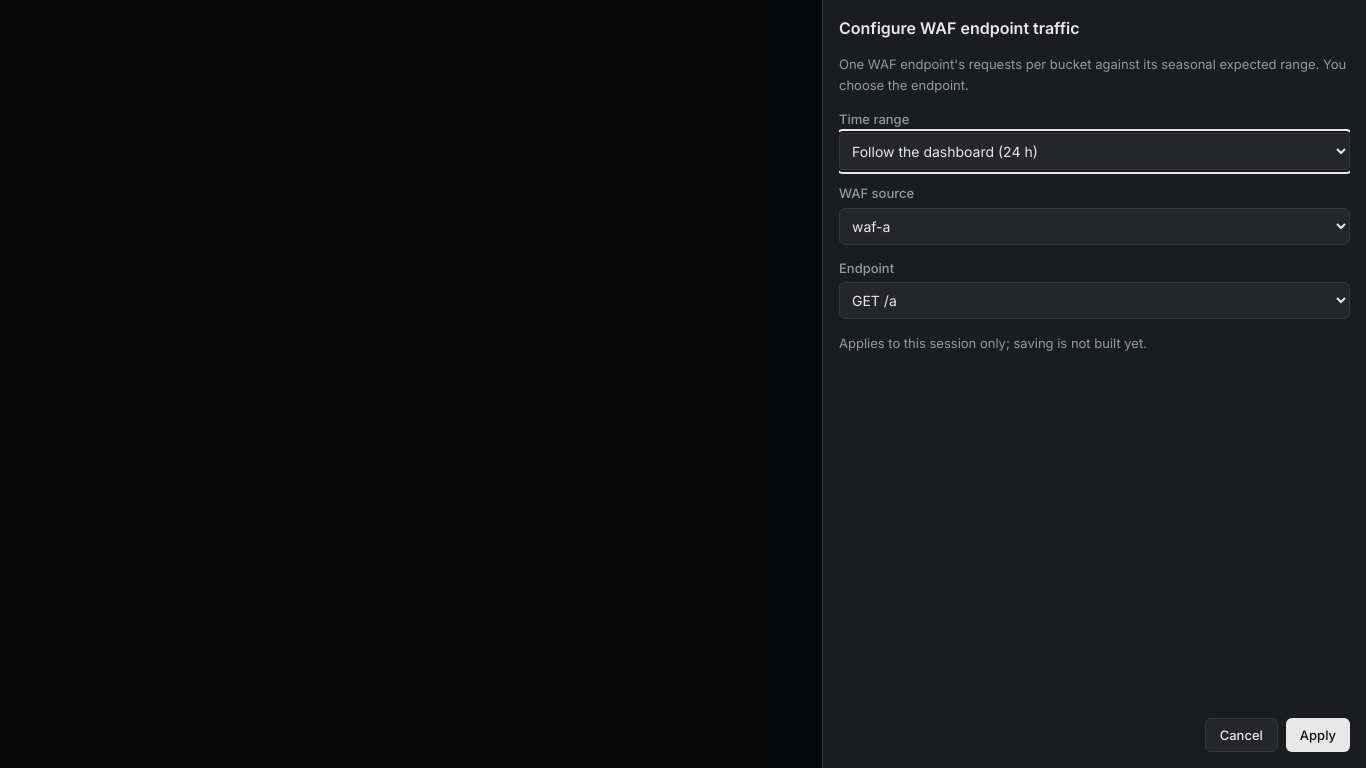
Test: an option source › changing the source clears the endpoint, and Apply goes off again
Expected: the button "Apply" is enabled, x1=1286 y1=718 x2=1350 y2=752
Select "waf-b" in the dropdown labelled "WAF source" at (1094, 226), box x1=839 y1=208 x2=1350 y2=245
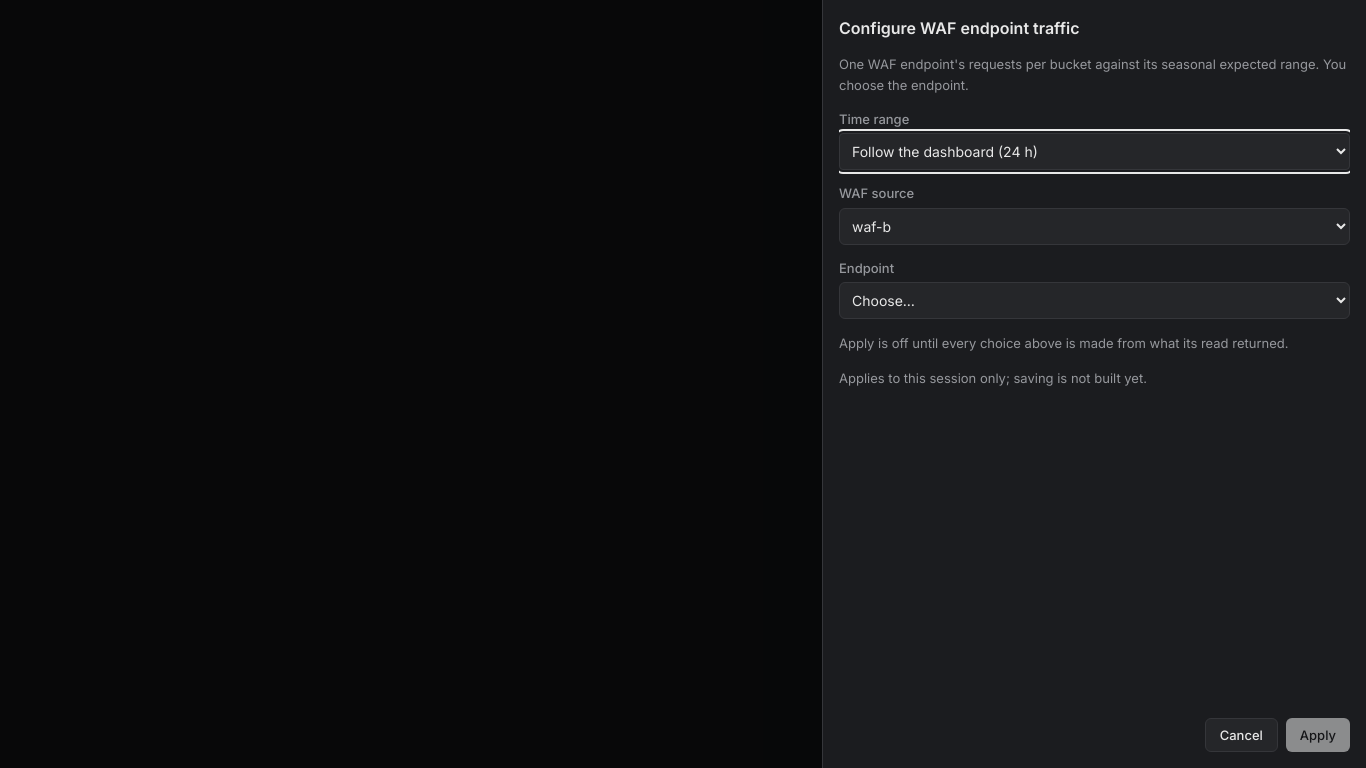
Expected: the dropdown labelled "Endpoint" shows "Choose…", x1=839 y1=282 x2=1350 y2=319
Expected: the button "Apply" is disabled, x1=1286 y1=718 x2=1350 y2=752
